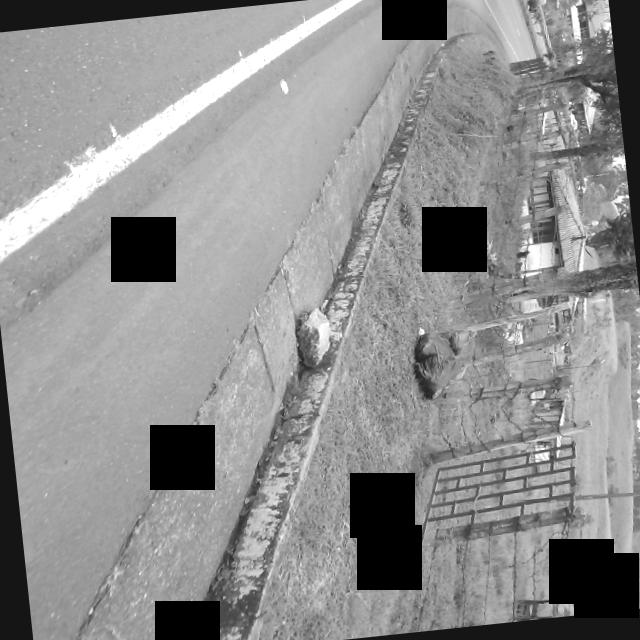DITCH: (0, 0, 576, 640), (0, 0, 515, 640)
